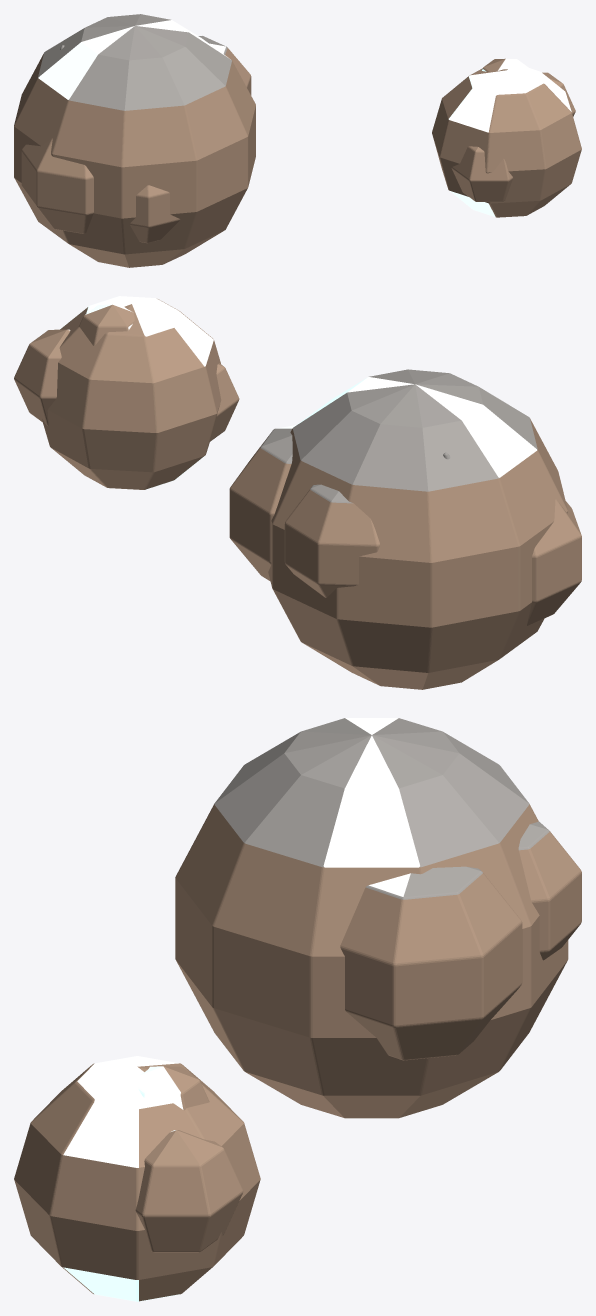
Rendered from Arena_RockIsland_A.fbx.
3 renders of one model, top to bottom at view 1: azimuth 30°, elevation 25°; view 2: azimuth 150°, elevation 25°; view 3: azimuth 270°, elevation 25°, orthographic. The views are drawn at different scales.
Parts seen in each view (by area): view 1: Arena_RockIsland_A; view 2: Arena_RockIsland_A; view 3: Arena_RockIsland_A.
Boxes of the visible parts, x1=… form: Arena_RockIsland_A: x1=14, y1=14, x2=581, y2=267; Arena_RockIsland_A: x1=14, y1=296, x2=581, y2=689; Arena_RockIsland_A: x1=14, y1=718, x2=581, y2=1301.
Bounding box in the file's own units: 6.82 × 3.1 × 4.36.
